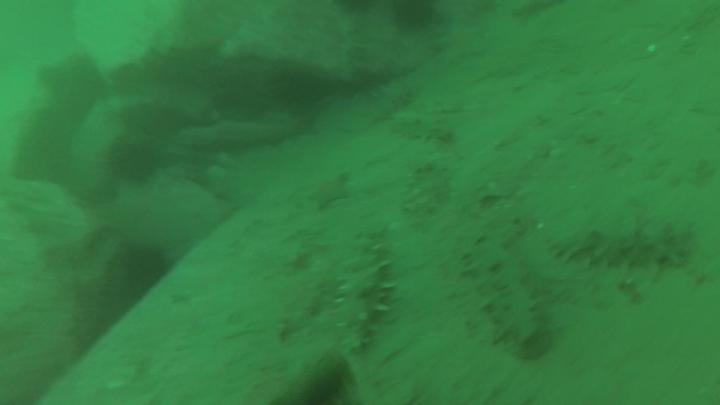echinus: (108, 254, 168, 313), (57, 60, 102, 106), (110, 143, 159, 184), (269, 70, 316, 110), (395, 2, 436, 28)
holothurian: (460, 229, 543, 348), (555, 226, 697, 272), (338, 225, 390, 347), (405, 160, 440, 223), (393, 111, 456, 143), (378, 78, 412, 118)
starfish: (307, 174, 350, 209)
